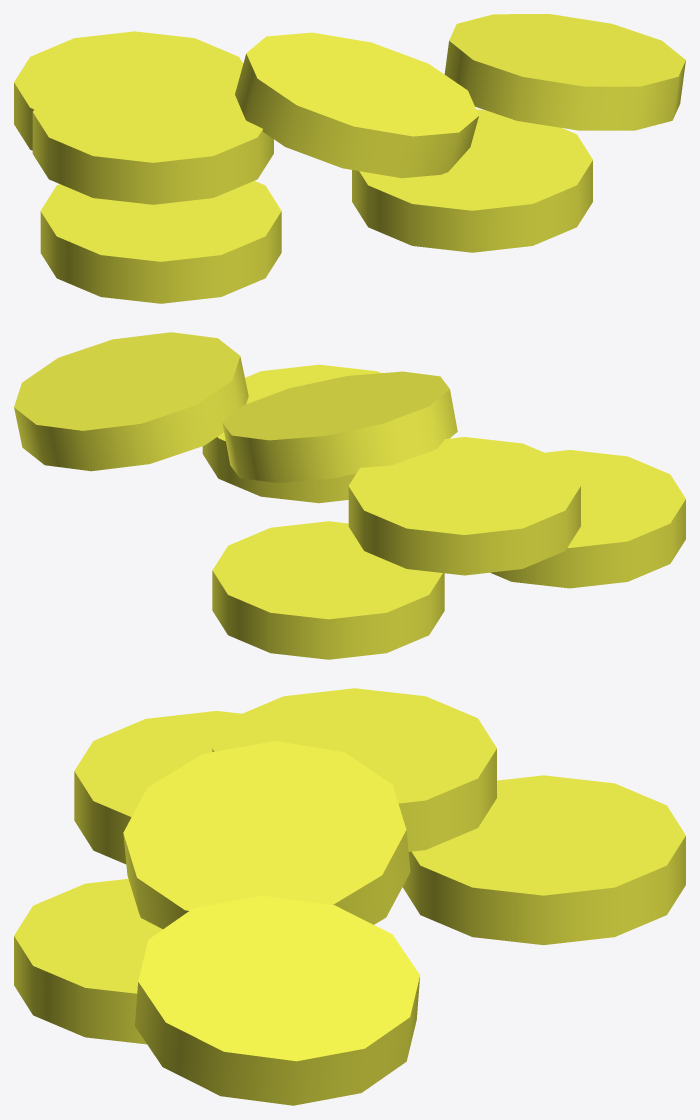
Rendered from Coins 3.glb.
3 renders of one model, top to bottom at view 1: azimuth 30°, elevation 25°; view 2: azimuth 150°, elevation 25°; view 3: azimuth 270°, elevation 25°, orthographic. The views are drawn at different scales.
Parts seen in each view (by area): view 1: coins_3; view 2: coins_3; view 3: coins_3.
Boxes of the visible parts, <box> form: coins_3: <box>14,14,685,303</box>; coins_3: <box>14,332,685,659</box>; coins_3: <box>14,688,685,1105</box>.
Size of the model in its own units: 0.6121 by 0.1158 by 0.472.
